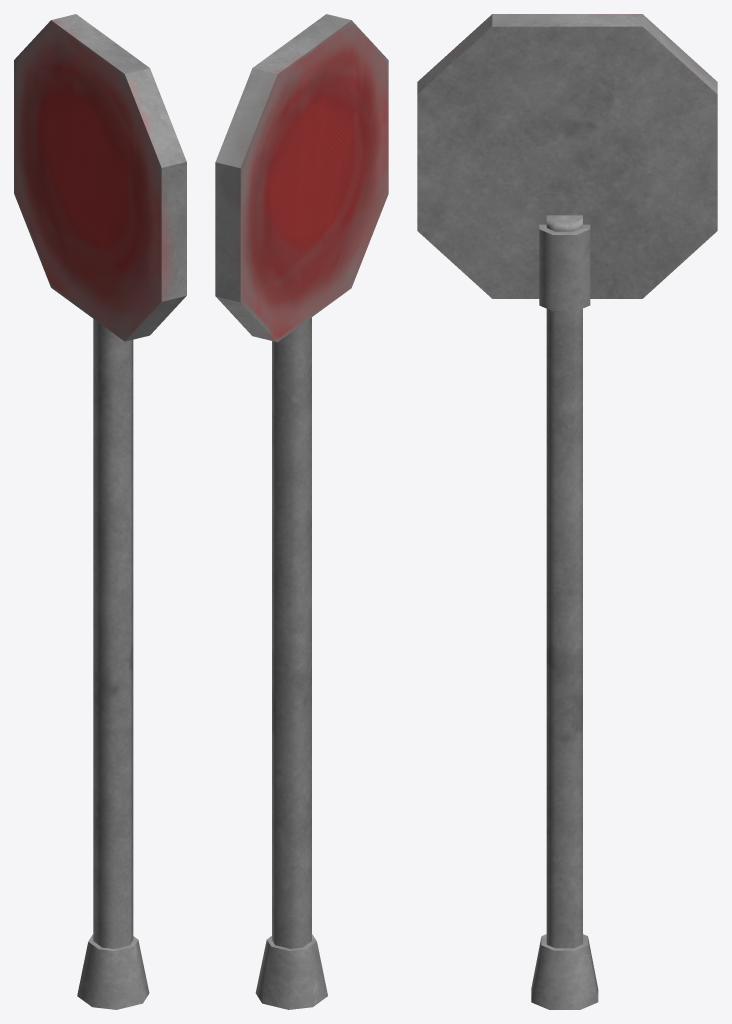
Rendered from obj_Bord1_1x1 (1).fbx.
3 views of the same model, side by side, from view 1: azimuth 30°, elevation 25°; view 2: azimuth 150°, elevation 25°; view 3: azimuth 270°, elevation 25° (orthographic).
Visible parts, largest first — view 1: Bord2; view 2: Bord2; view 3: Bord2.
Boxes of the visible parts, box(x1,y1,x2,y2) form: Bord2: box(14, 14, 186, 1009); Bord2: box(215, 14, 388, 1009); Bord2: box(417, 14, 717, 1009).
Bounding box in the file's own units: 24.34 × 387 × 109.
Materials: 1 (1 with a texture image).
